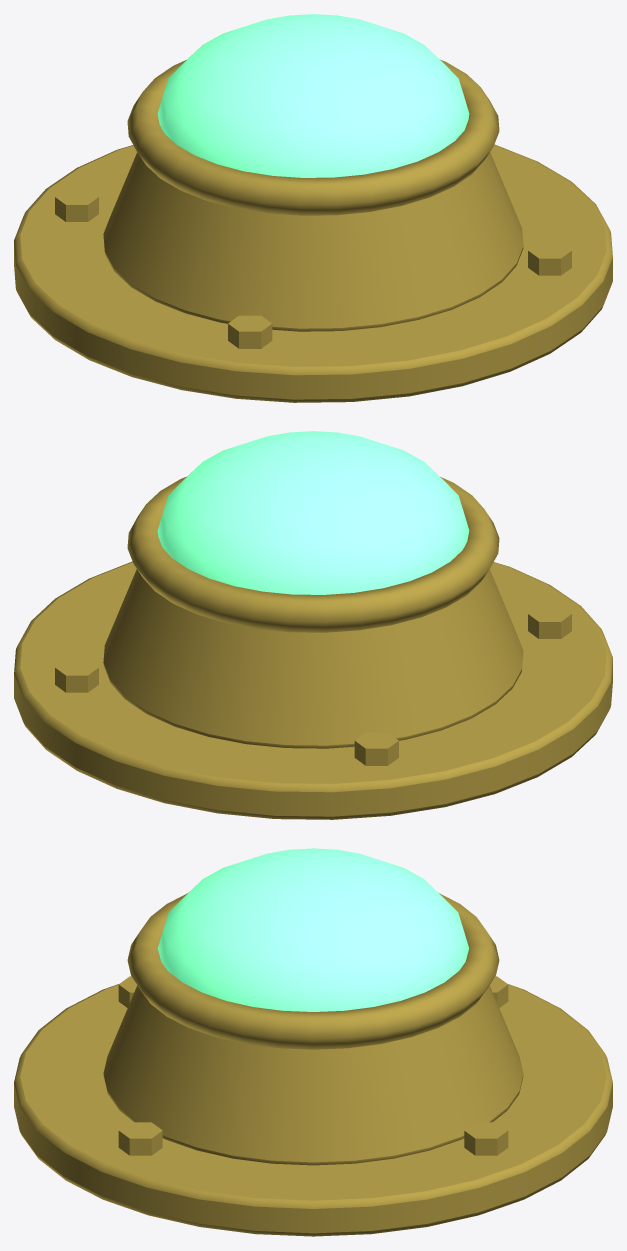
File: pad_fixtures.glb
The picture shows the model from 3 angles, top to bottom: view 1: azimuth 30°, elevation 25°; view 2: azimuth 150°, elevation 25°; view 3: azimuth 270°, elevation 25°; orthographic projection.
Parts seen in each view (by area): view 1: lamp_housing, lamp_lens; view 2: lamp_housing, lamp_lens; view 3: lamp_housing, lamp_lens.
Boxes of the visible parts, bbox=[...] form: lamp_housing: bbox=[14, 59, 612, 402]; lamp_lens: bbox=[157, 14, 469, 177]; lamp_housing: bbox=[14, 476, 612, 819]; lamp_lens: bbox=[157, 431, 469, 594]; lamp_housing: bbox=[14, 893, 612, 1236]; lamp_lens: bbox=[157, 848, 469, 1011].
Bounding box in the file's own units: 0.38 × 0.173 × 0.38.
